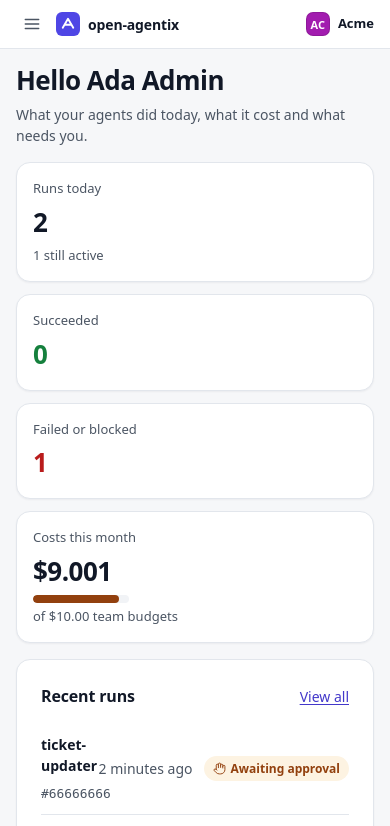
Test: app shell › opens and closes the mobile menu
Click the button named "Open menu": (32, 24) [16, 8, 48, 40]
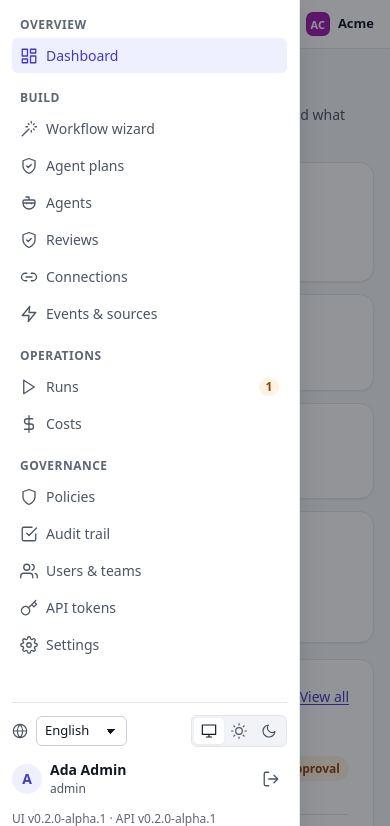
Now the button named "Open menu" is expanded, box [16, 8, 48, 40]
Press Escape
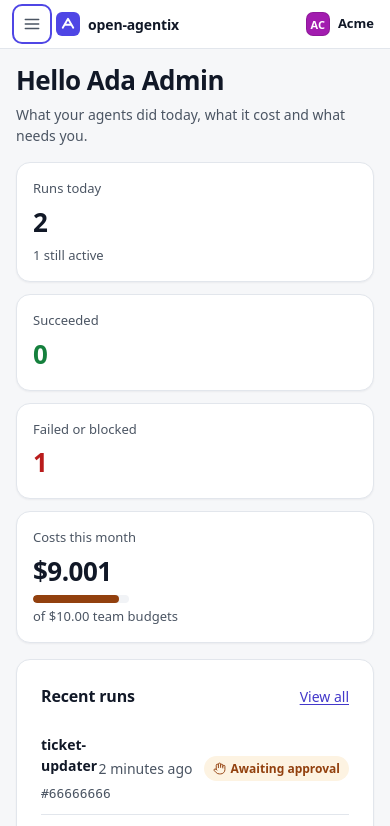
Now the button named "Open menu" is collapsed, box [16, 8, 48, 40]
